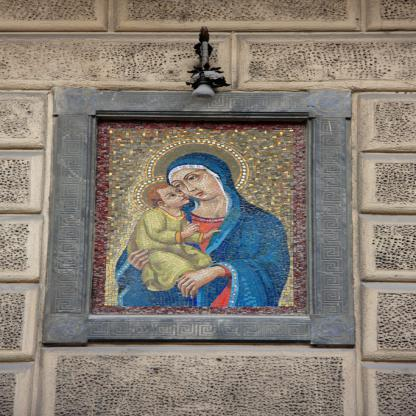Picture-frame: (45, 88, 357, 346)
